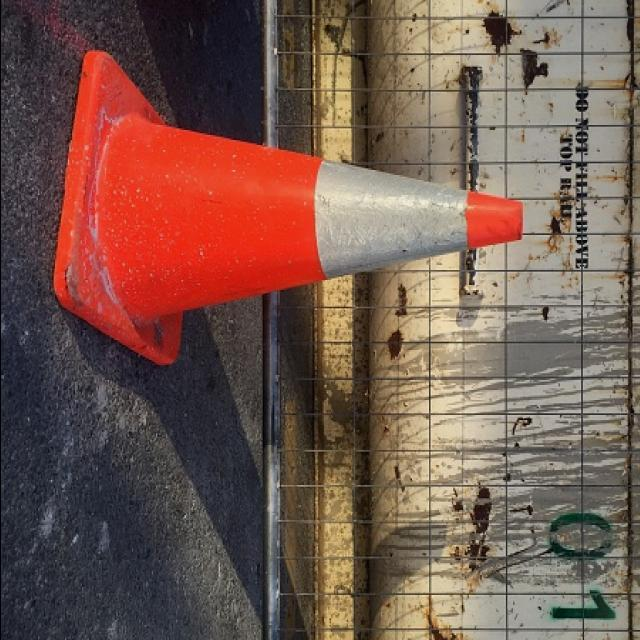traffic cone: (51, 51, 525, 366)
